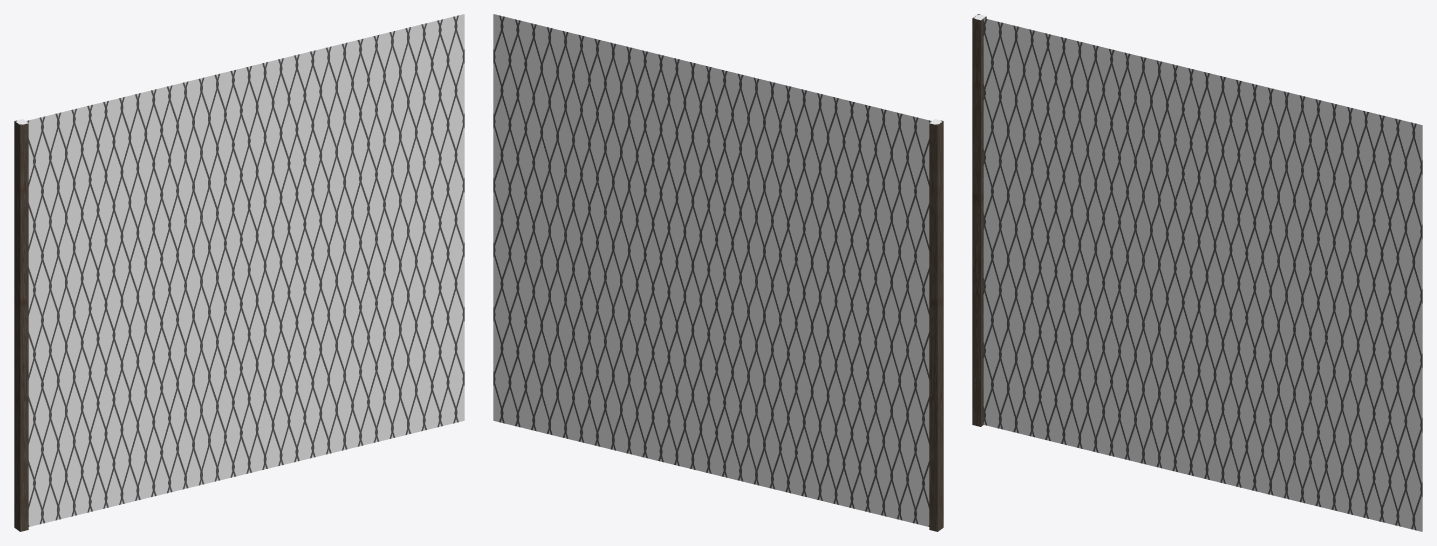
The model's file is lift-door.fbx.
The picture shows the model from 3 angles, left to right: view 1: azimuth 30°, elevation 25°; view 2: azimuth 150°, elevation 25°; view 3: azimuth 330°, elevation 25°; orthographic projection.
Parts seen in each view (by area): view 1: LIFT DOOR; view 2: LIFT DOOR; view 3: LIFT DOOR.
Boxes of the visible parts, x1,y1,x2,y2 form: LIFT DOOR: [14, 14, 464, 531]; LIFT DOOR: [493, 14, 943, 531]; LIFT DOOR: [972, 14, 1422, 531].
Size of the model in its own units: 3.45 by 3 by 0.0789.
